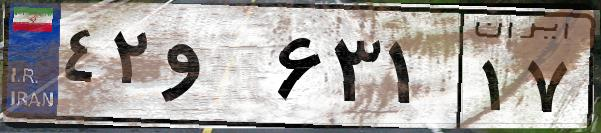1: (385, 28, 445, 110), (475, 38, 525, 113)
2: (110, 28, 158, 98)
3: (330, 28, 385, 110)
4: (57, 26, 110, 100)
6: (270, 28, 330, 110)
7: (525, 38, 570, 115)
و: (158, 20, 270, 120)
